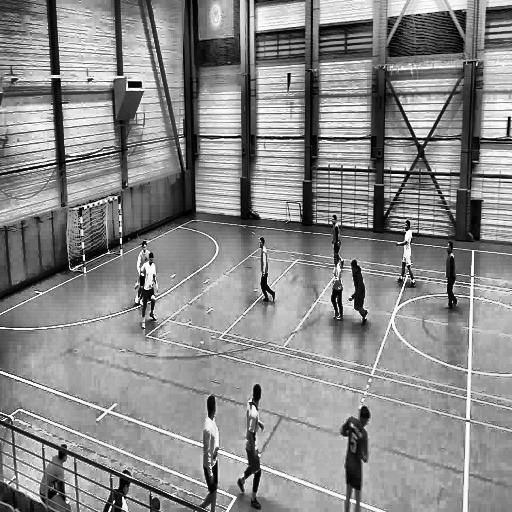ball: (150, 294, 156, 305)
player: (237, 384, 265, 510), (340, 404, 369, 512), (202, 395, 220, 512), (134, 251, 158, 330), (396, 219, 416, 290), (348, 260, 368, 330), (258, 237, 276, 306), (330, 254, 346, 322), (444, 239, 458, 313), (134, 240, 149, 306), (330, 210, 345, 267)
